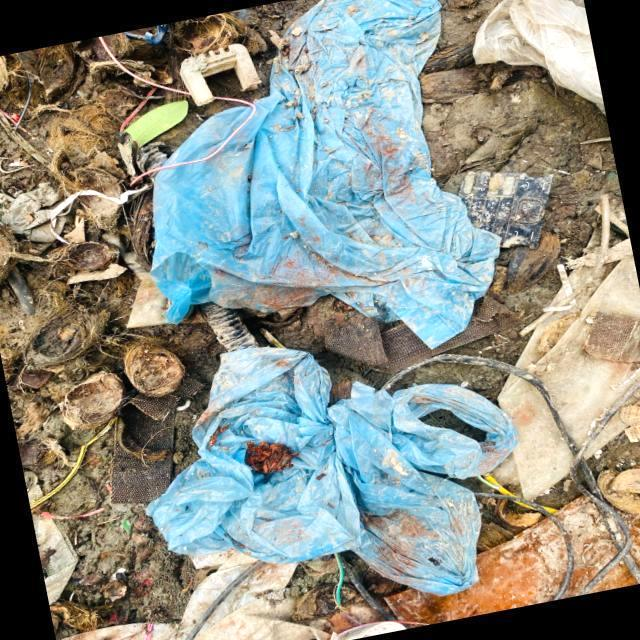polythene: (134, 1, 470, 336), (145, 337, 507, 609)
